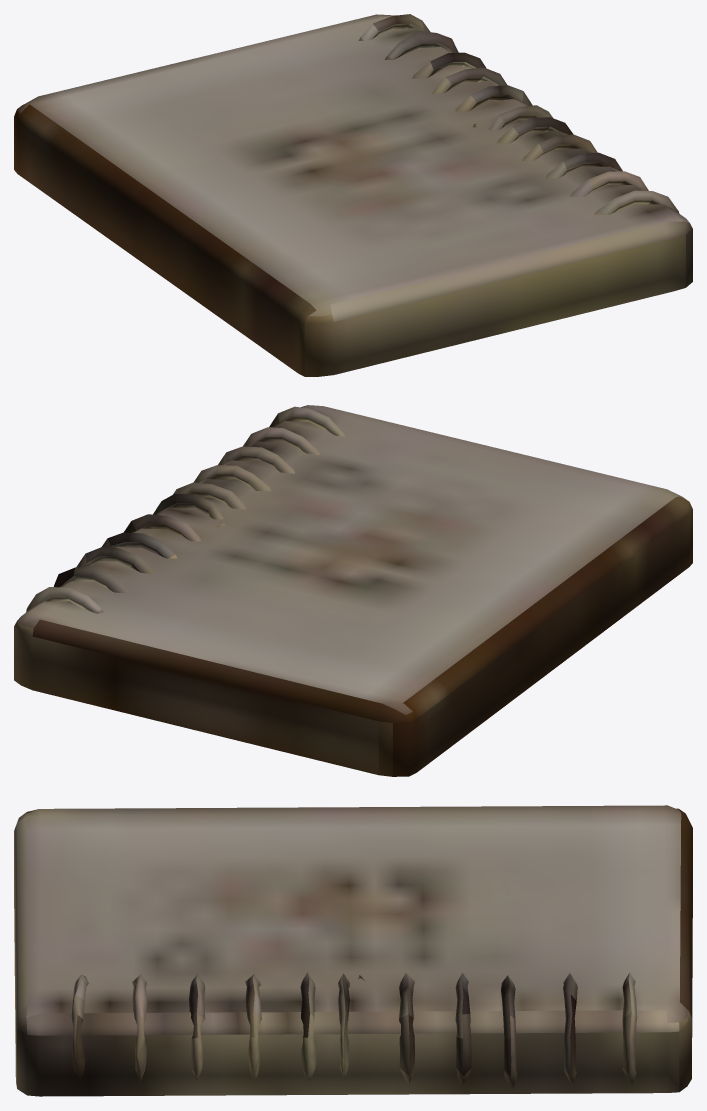
Rendered from OparetionRoom_AI_Prop.028.fbx.
3 views of the same model, one above another, from view 1: azimuth 30°, elevation 25°; view 2: azimuth 150°, elevation 25°; view 3: azimuth 270°, elevation 25° (orthographic). The views are drawn at different scales.
Visible parts, largest first — view 1: OparetionRoom_AI_Prop.028; view 2: OparetionRoom_AI_Prop.028; view 3: OparetionRoom_AI_Prop.028.
Part boxes in pixels (left/top/right/bottom): OparetionRoom_AI_Prop.028: left=14, top=14, right=692, bottom=376; OparetionRoom_AI_Prop.028: left=14, top=405, right=692, bottom=776; OparetionRoom_AI_Prop.028: left=14, top=805, right=692, bottom=1096.
Size of the model in its own units: 32.69 by 7.38 by 41.29.
